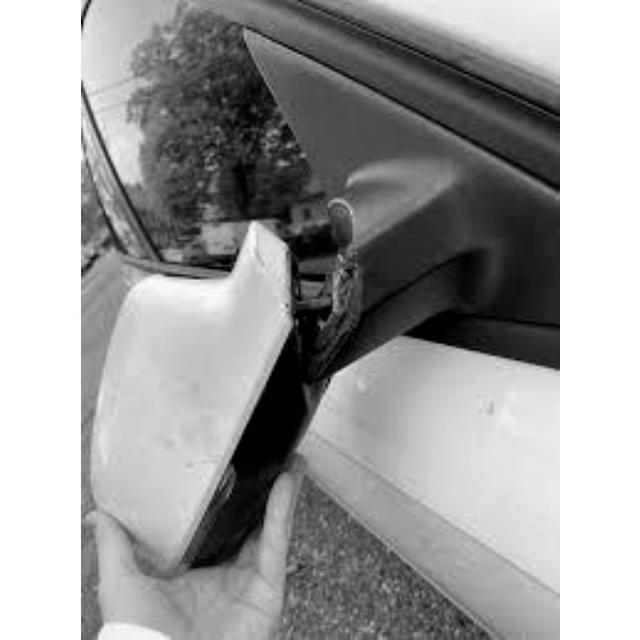Sidemirror-Damage: (150, 164, 397, 537)
